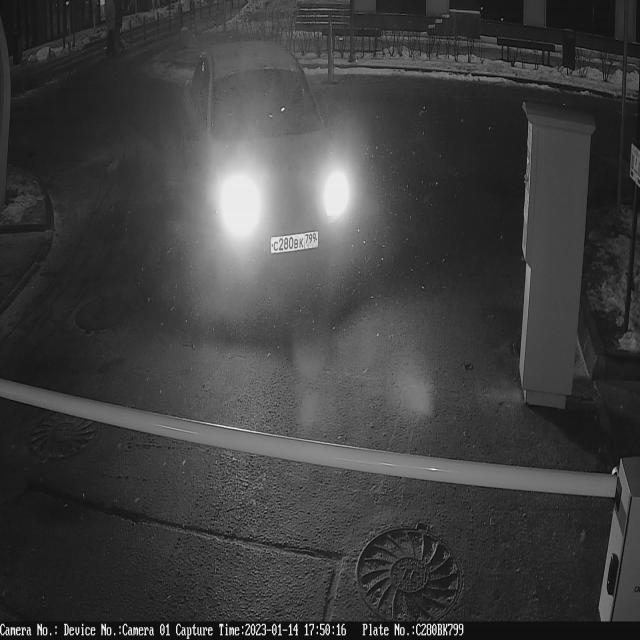car-plate-numbers: (269, 230, 325, 259)
